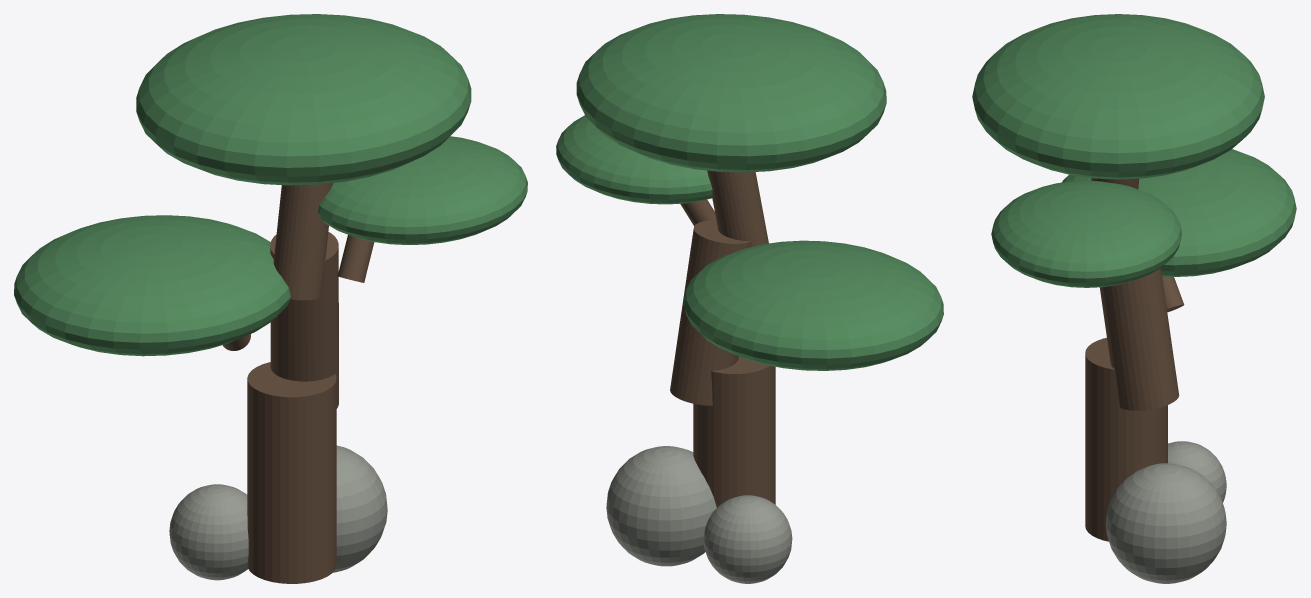
File: pine_tree.glb
The picture shows the model from 3 angles, left to right: view 1: azimuth 30°, elevation 25°; view 2: azimuth 150°, elevation 25°; view 3: azimuth 270°, elevation 25°; orthographic projection. The views are drawn at different scales.
Visible parts, largest first — view 1: CloudPadCrown, CloudPad1, TrunkBase, CloudPad2, BaseRock2, TrunkMid, TrunkUpper, BaseRock1, BranchR; view 2: CloudPadCrown, CloudPad1, BaseRock1, TrunkBase, CloudPad2, BaseRock2, TrunkMid, TrunkUpper, BranchR; view 3: CloudPadCrown, CloudPad2, CloudPad1, BaseRock1, TrunkBase, TrunkMid, BaseRock2, BranchL.
Boxes of the visible parts, x1,y1,x2,y2 form: CloudPadCrown: (136, 14, 471, 185); CloudPad1: (14, 215, 290, 356); TrunkBase: (247, 362, 336, 583); CloudPad2: (318, 136, 527, 244); BaseRock2: (169, 484, 248, 580); TrunkMid: (270, 232, 338, 408); TrunkUpper: (273, 183, 333, 300); BaseRock1: (333, 445, 387, 572); BranchR: (337, 234, 374, 282); CloudPadCrown: (576, 14, 886, 172); CloudPad1: (683, 240, 943, 370); BaseRock1: (606, 446, 716, 566); TrunkBase: (693, 356, 775, 507); CloudPad2: (556, 115, 712, 204); BaseRock2: (703, 495, 792, 583); TrunkMid: (670, 220, 751, 405); TrunkUpper: (707, 170, 768, 246); BranchR: (680, 199, 716, 225); CloudPadCrown: (972, 14, 1264, 179); CloudPad2: (991, 180, 1182, 287); CloudPad1: (1062, 149, 1296, 276); BaseRock1: (1106, 463, 1226, 583); TrunkBase: (1085, 337, 1167, 541); TrunkMid: (1099, 268, 1179, 410); BaseRock2: (1168, 441, 1226, 502); BranchL: (1162, 276, 1184, 312).
Bounding box in the file's own units: 2.95 × 3.54 × 2.04.
